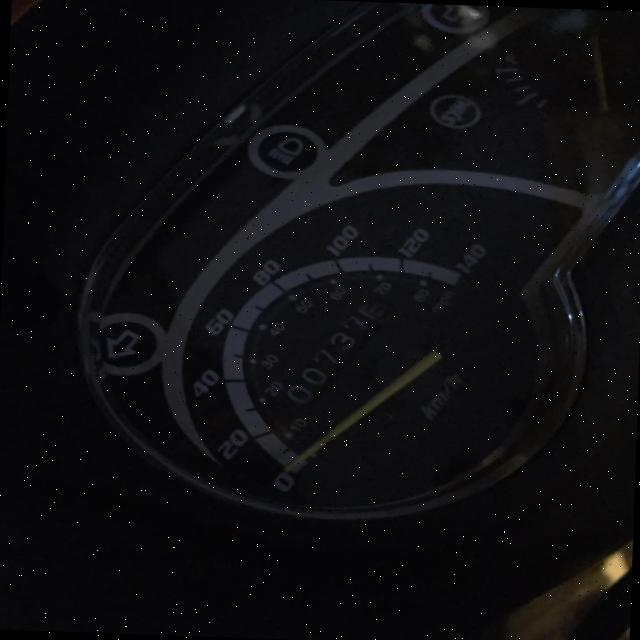odometer: (270, 295, 396, 412)
